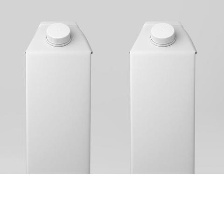carton: (11, 18, 100, 179), (122, 15, 201, 177)
